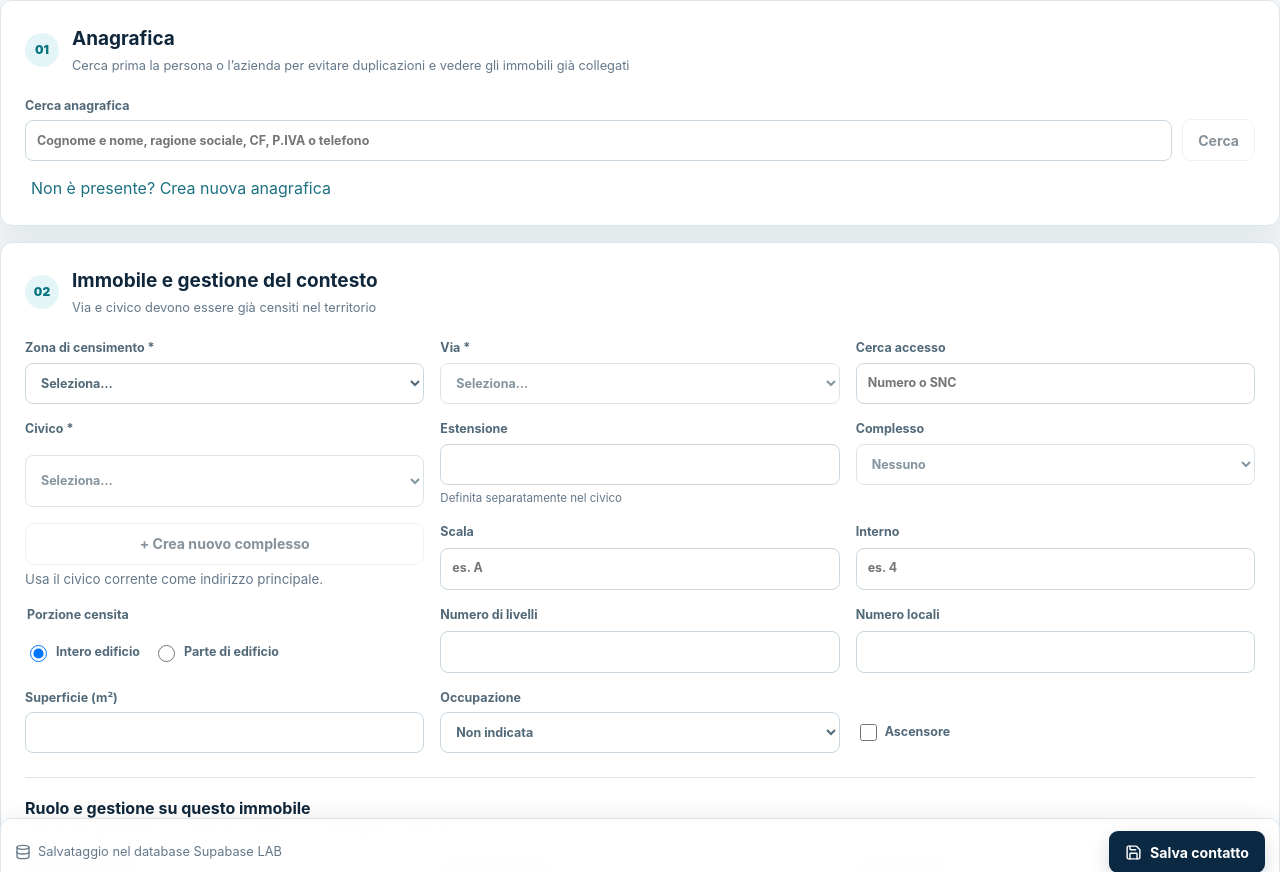
Test: contact form › reports an empty registry search and offers new identity creation
Type "Nessuno Presente" into the field labelled "Cerca anagrafica". click: (599, 141)
box: [25,120,1172,161]
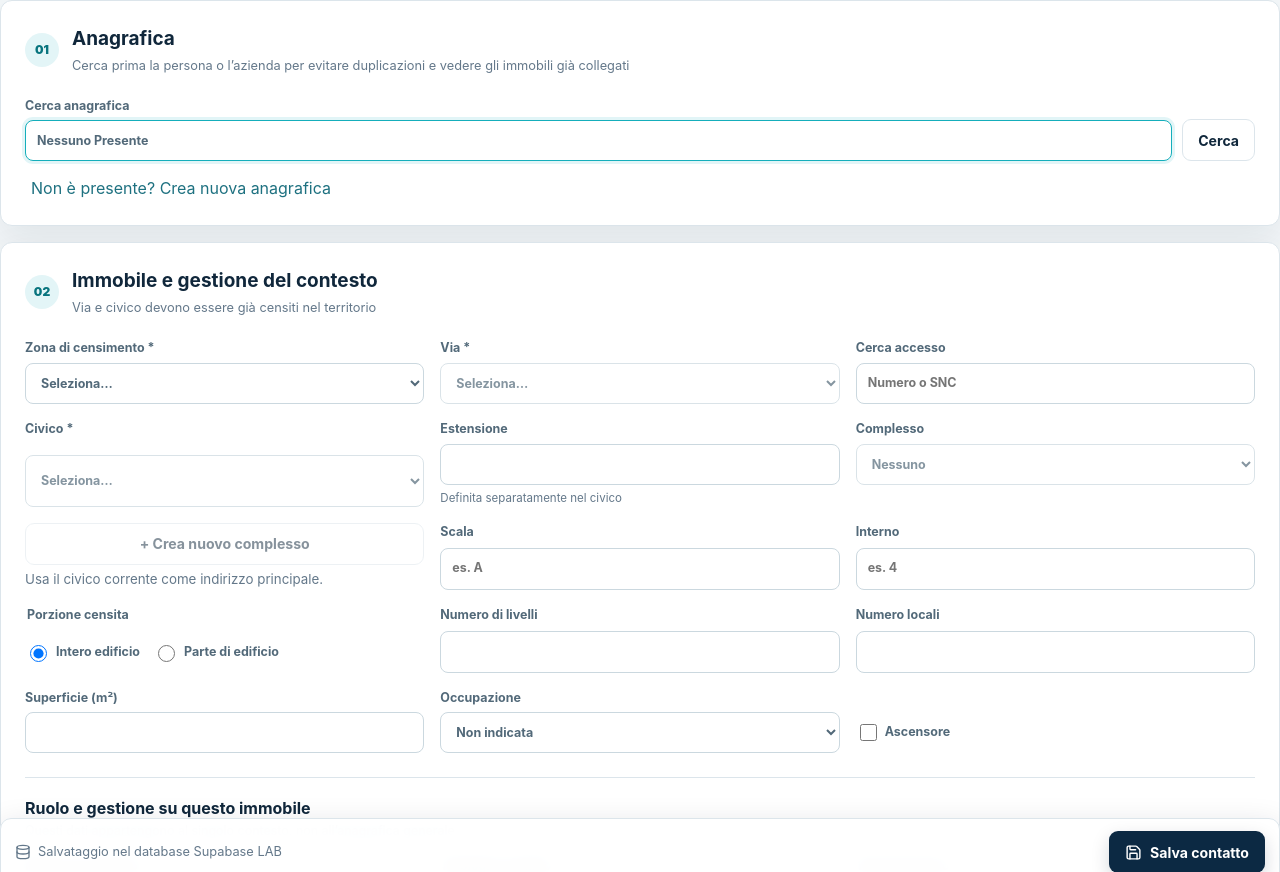
Click the button "Cerca". click: (1219, 140)
box: [1182,119,1255,161]
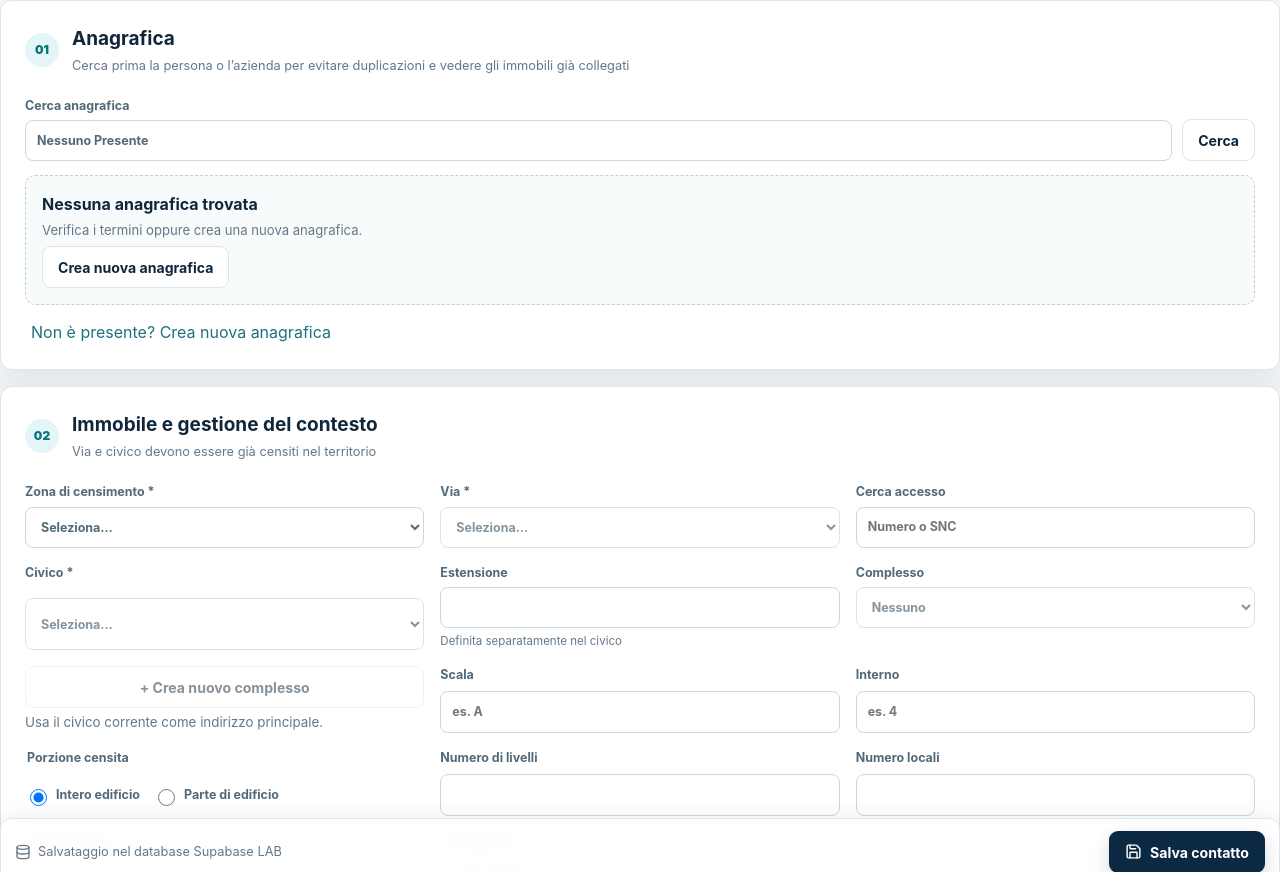
expect the text "Nessuna anagrafica trovata" is shown: met, box [42,192,258,216]
Click the button "Crea nuova anagrafica". click: (136, 267)
box: [42,246,229,288]
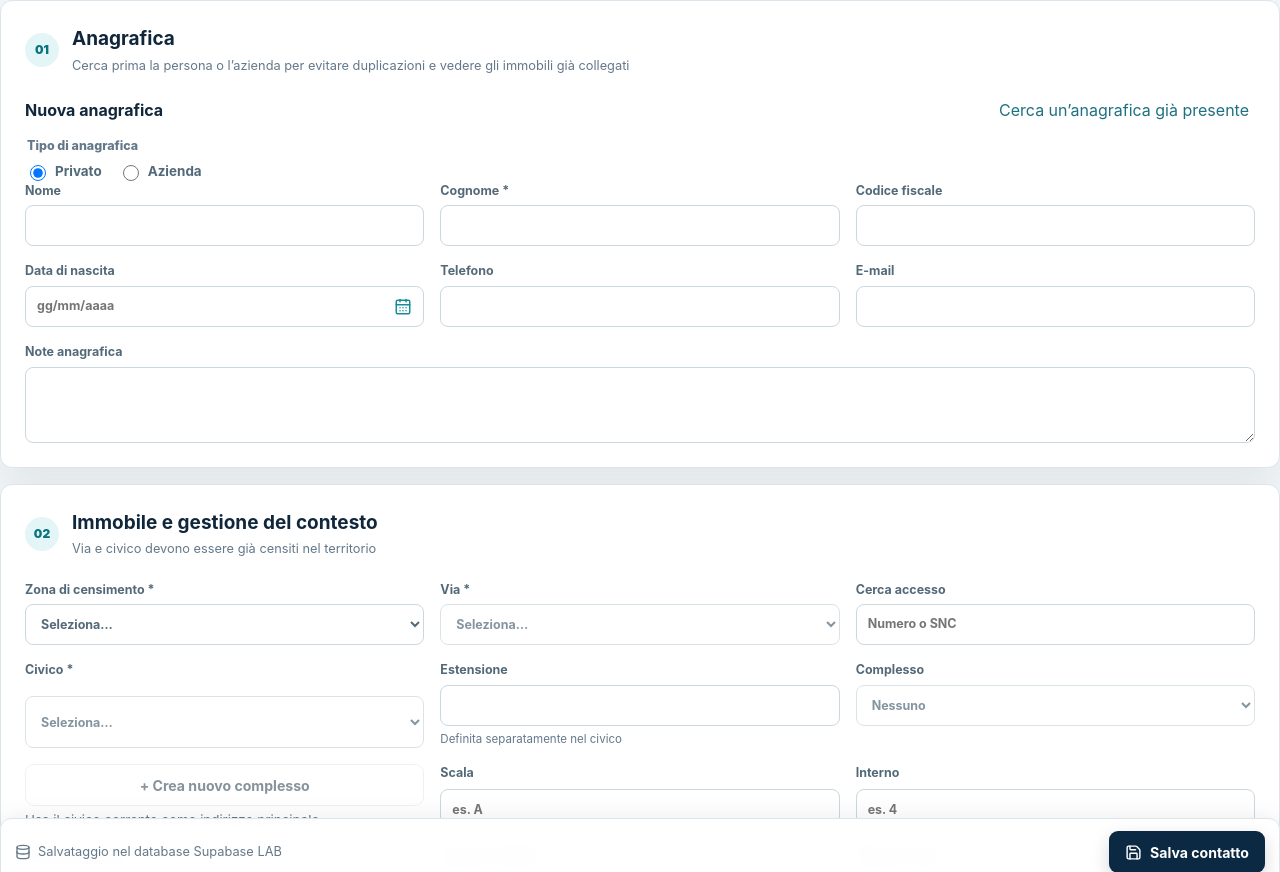
expect the field labelled "Cognome *" is shown: met, box [440,205,840,246]
